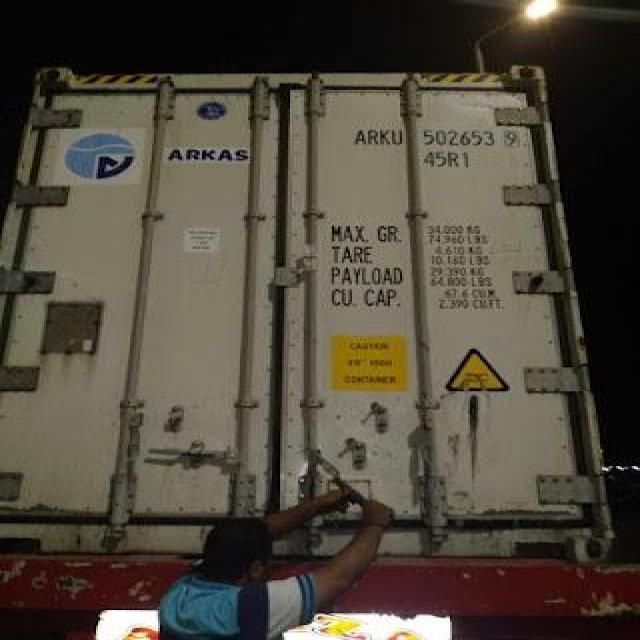ISO: (423, 140, 475, 174)
container_number: (360, 125, 528, 148)
